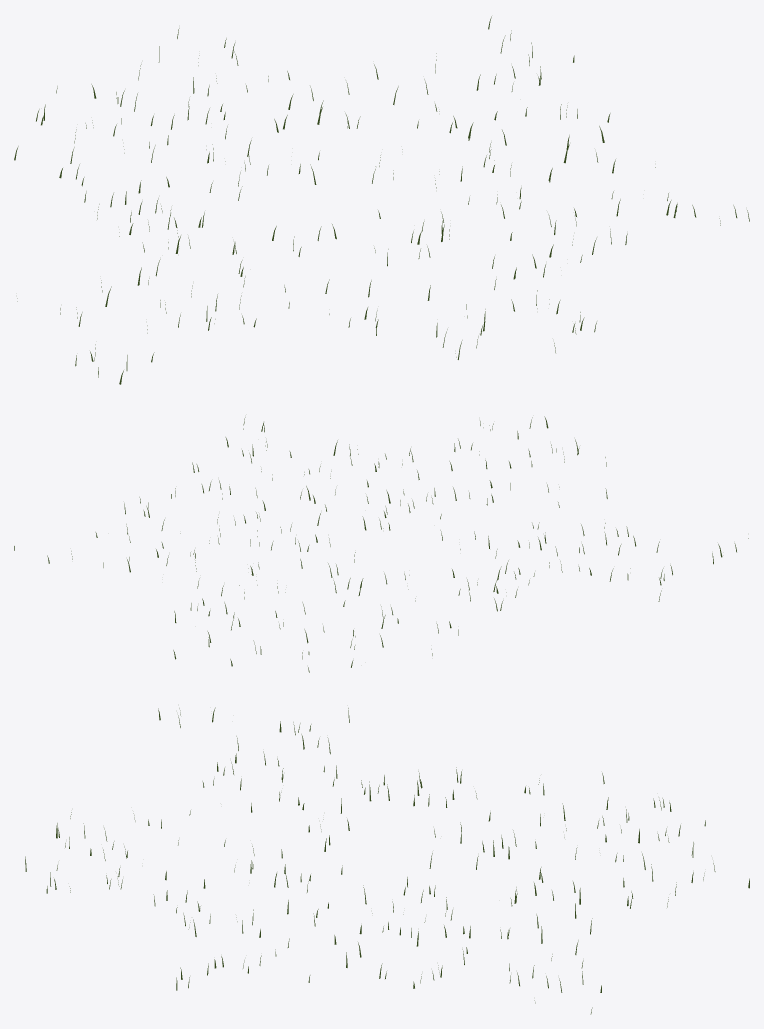
3 renders of one model, top to bottom at view 1: azimuth 30°, elevation 25°; view 2: azimuth 150°, elevation 25°; view 3: azimuth 270°, elevation 25°, orthographic. The views are drawn at different scales.
Parts seen in each view (by area): view 1: GrassPatch; view 2: GrassPatch; view 3: GrassPatch.
Boxes of the visible parts, x1=… form: GrassPatch: x1=14, y1=16, x2=749, y2=384; GrassPatch: x1=14, y1=416, x2=748, y2=672; GrassPatch: x1=25, y1=707, x2=749, y2=1014.
Bounding box in the file's own units: 16.87 × 0.4919 × 17.44.
